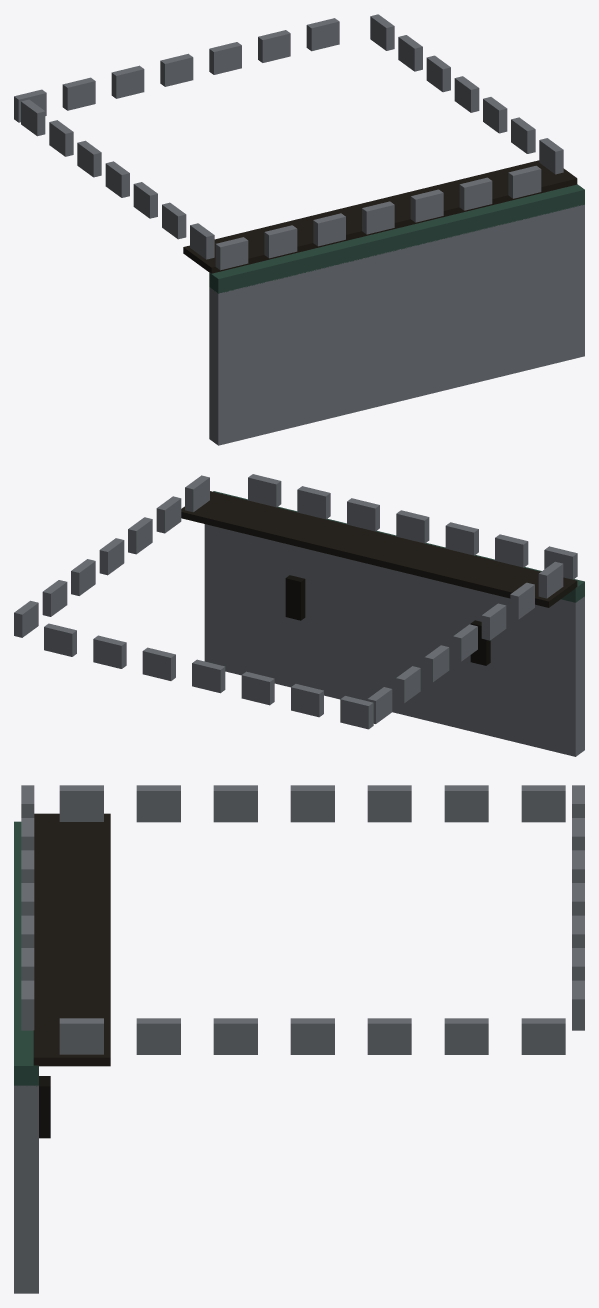
The model's file is WallStraight.fbx.
3 views of the same model, one above another, from view 1: azimuth 30°, elevation 25°; view 2: azimuth 150°, elevation 25°; view 3: azimuth 270°, elevation 25° (orthographic). The views are drawn at different scales.
Parts seen in each view (by area): view 1: WallStraight; view 2: WallStraight; view 3: WallStraight.
Part boxes in pixels (bbox=[...]): WallStraight: bbox=[14, 14, 584, 445]; WallStraight: bbox=[14, 474, 584, 756]; WallStraight: bbox=[14, 785, 584, 1293].
Bounding box in the file's own units: 1202 × 612 × 1187.
Materials: 4 (4 with a texture image).
